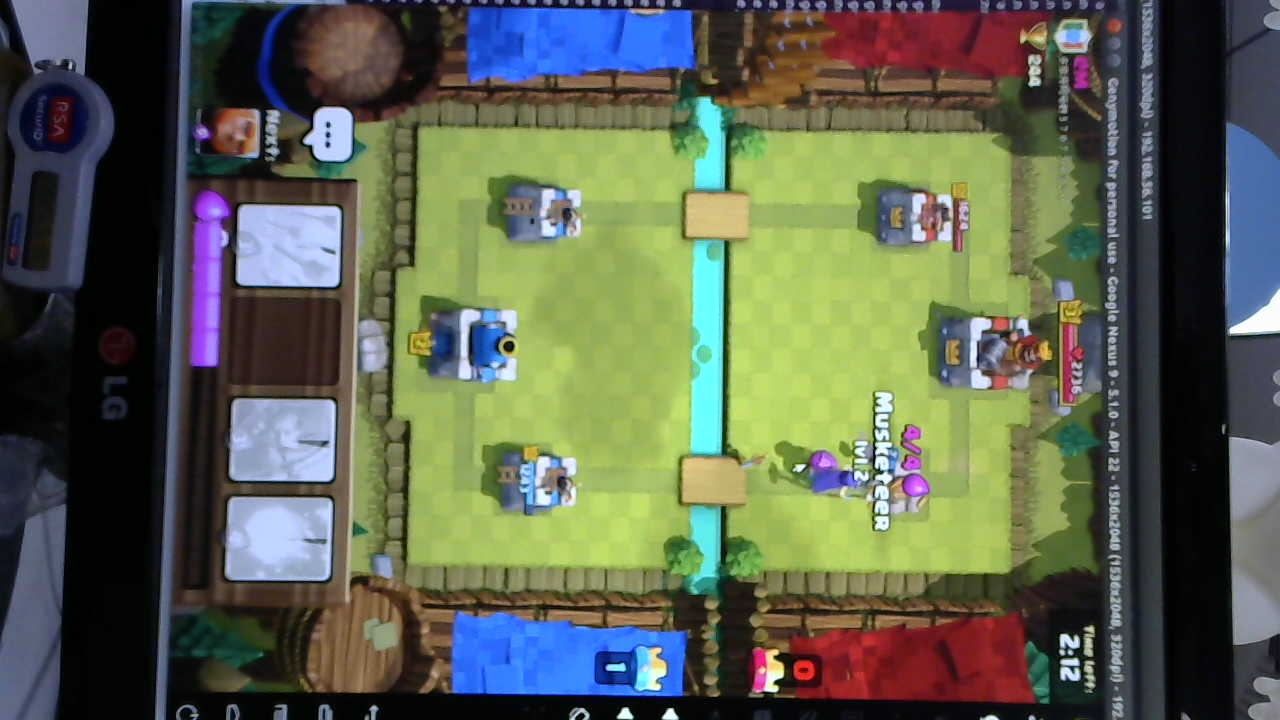arena: (501, 447, 583, 512), (517, 186, 586, 244)
earena: (872, 187, 956, 252)
eking: (937, 314, 1038, 396)
king: (429, 304, 521, 388)
witch: (804, 465, 873, 503)
